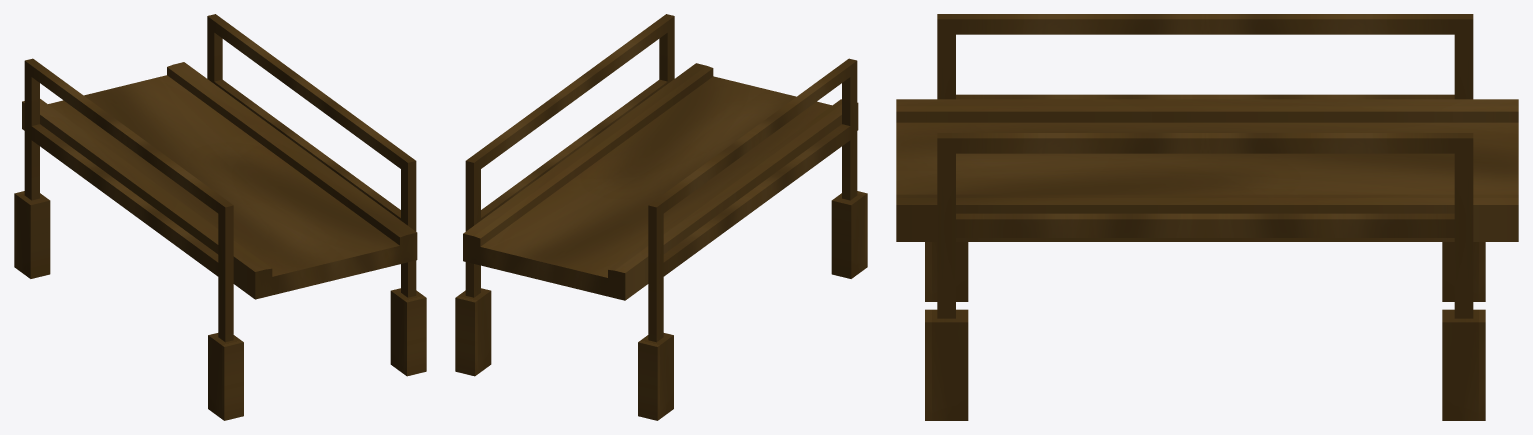
The model's file is jembatan.fbx.
3 renders of one model, left to right at view 1: azimuth 30°, elevation 25°; view 2: azimuth 150°, elevation 25°; view 3: azimuth 270°, elevation 25°, orthographic. The views are drawn at different scales.
Visible parts, largest first — view 1: Cube.007, Cube.008; view 2: Cube.007, Cube.008; view 3: Cube.007, Cube.008.
Part boxes in pixels (x1=…): Cube.007: x1=22, y1=62, x2=417, y2=299; Cube.008: x1=14, y1=14, x2=426, y2=420; Cube.007: x1=463, y1=63, x2=858, y2=300; Cube.008: x1=455, y1=14, x2=867, y2=420; Cube.007: x1=896, y1=99, x2=1518, y2=241; Cube.008: x1=925, y1=14, x2=1485, y2=420.
Bounding box in the file's own units: 1438 × 1419 × 2870.
Materials: 1 (1 with a texture image).
